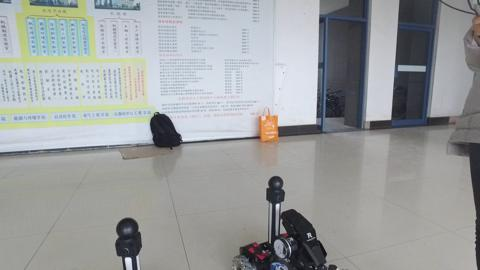bag: (147, 109, 183, 150), (256, 106, 283, 147)
chariot: (216, 172, 339, 270)
